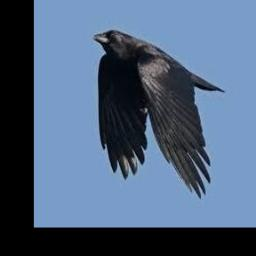Crow: (93, 28, 226, 199)
